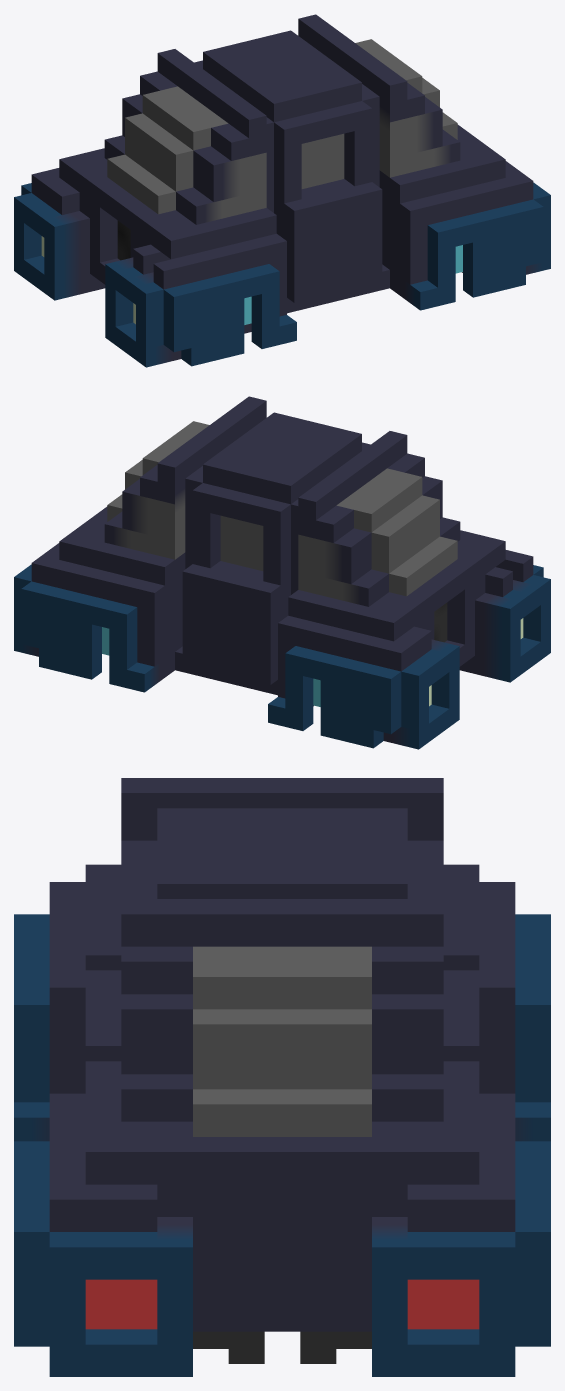
The model's file is vehicle_01.fbx.
The picture shows the model from 3 angles, top to bottom: view 1: azimuth 30°, elevation 25°; view 2: azimuth 150°, elevation 25°; view 3: azimuth 270°, elevation 25°; orthographic projection. The views are drawn at different scales.
Size of the model in its own units: 23 by 12 by 15.
